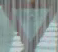Give way: (2, 5, 57, 47)
